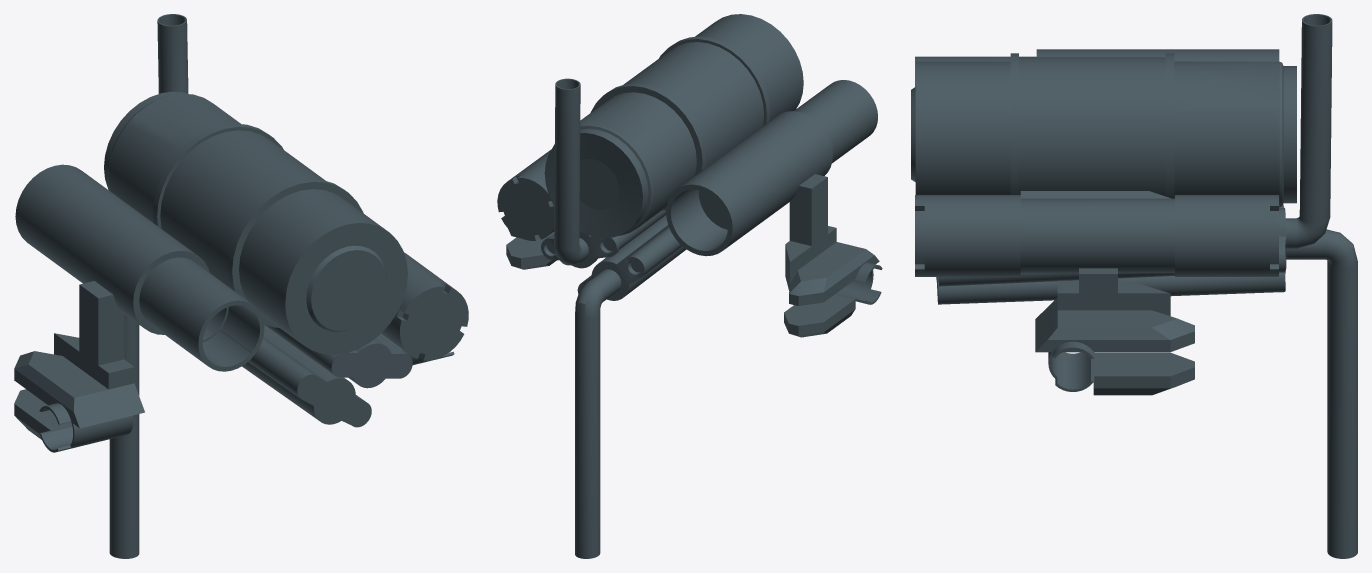
Rendered from ЗУР-РО-РМ_П.fbx.
3 renders of one model, left to right at view 1: azimuth 30°, elevation 25°; view 2: azimuth 150°, elevation 25°; view 3: azimuth 270°, elevation 25°, orthographic. The views are drawn at different scales.
Parts seen in each view (by area): view 1: ЗУР-РО-РМ_П; view 2: ЗУР-РО-РМ_П; view 3: ЗУР-РО-РМ_П.
Part boxes in pixels (x1,y1,x2,y2): ЗУР-РО-РМ_П: [14, 14, 468, 558]; ЗУР-РО-РМ_П: [497, 14, 882, 558]; ЗУР-РО-РМ_П: [911, 14, 1357, 558].
Bounding box in the file's own units: 45.43 × 58.55 × 43.08.
Materials: 1 (1 with a texture image).
